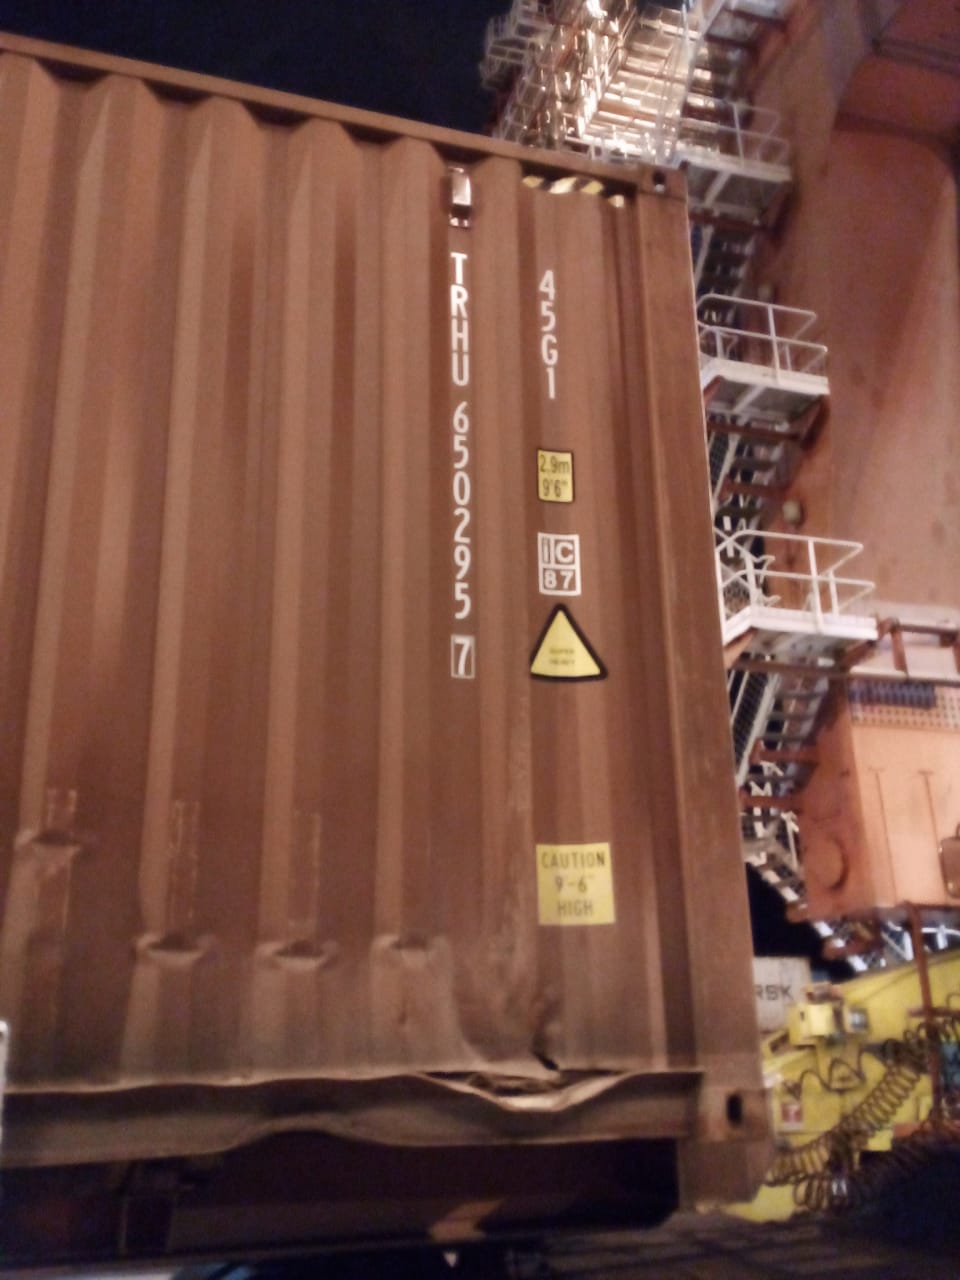dented: (133, 911, 470, 987), (433, 1040, 694, 1127), (1, 804, 93, 879)
